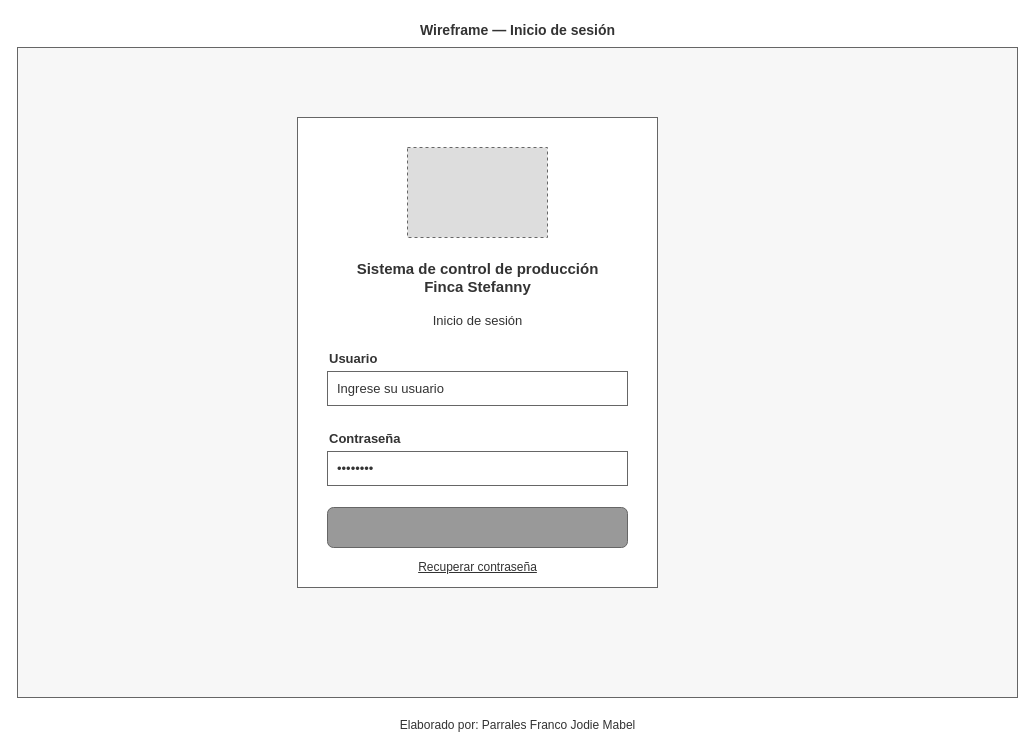
This 1035x755 diagram has some shape labels left out. The shapes that lost their labels are listed below. From the top down, each one's box as (x1, y1, x2, y2) in pixels, then its label:
(406, 146, 548, 238): LOGO
(326, 506, 628, 548): Ingresar
